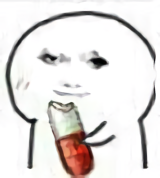dragon: (37, 47, 115, 100)
